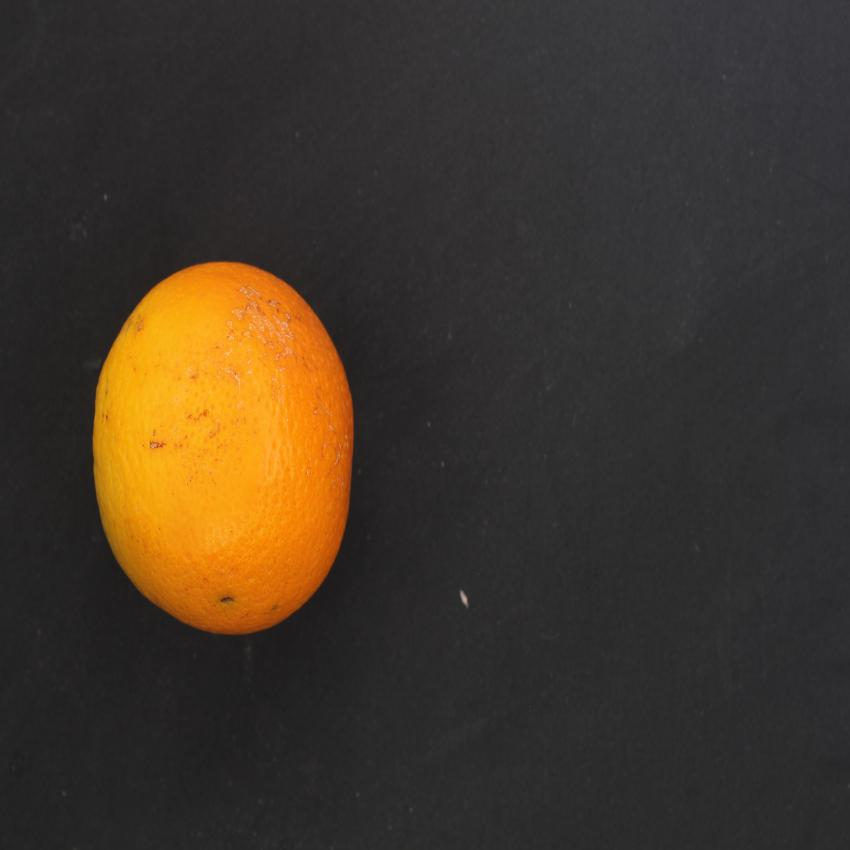Mal estado: (75, 242, 369, 657)
